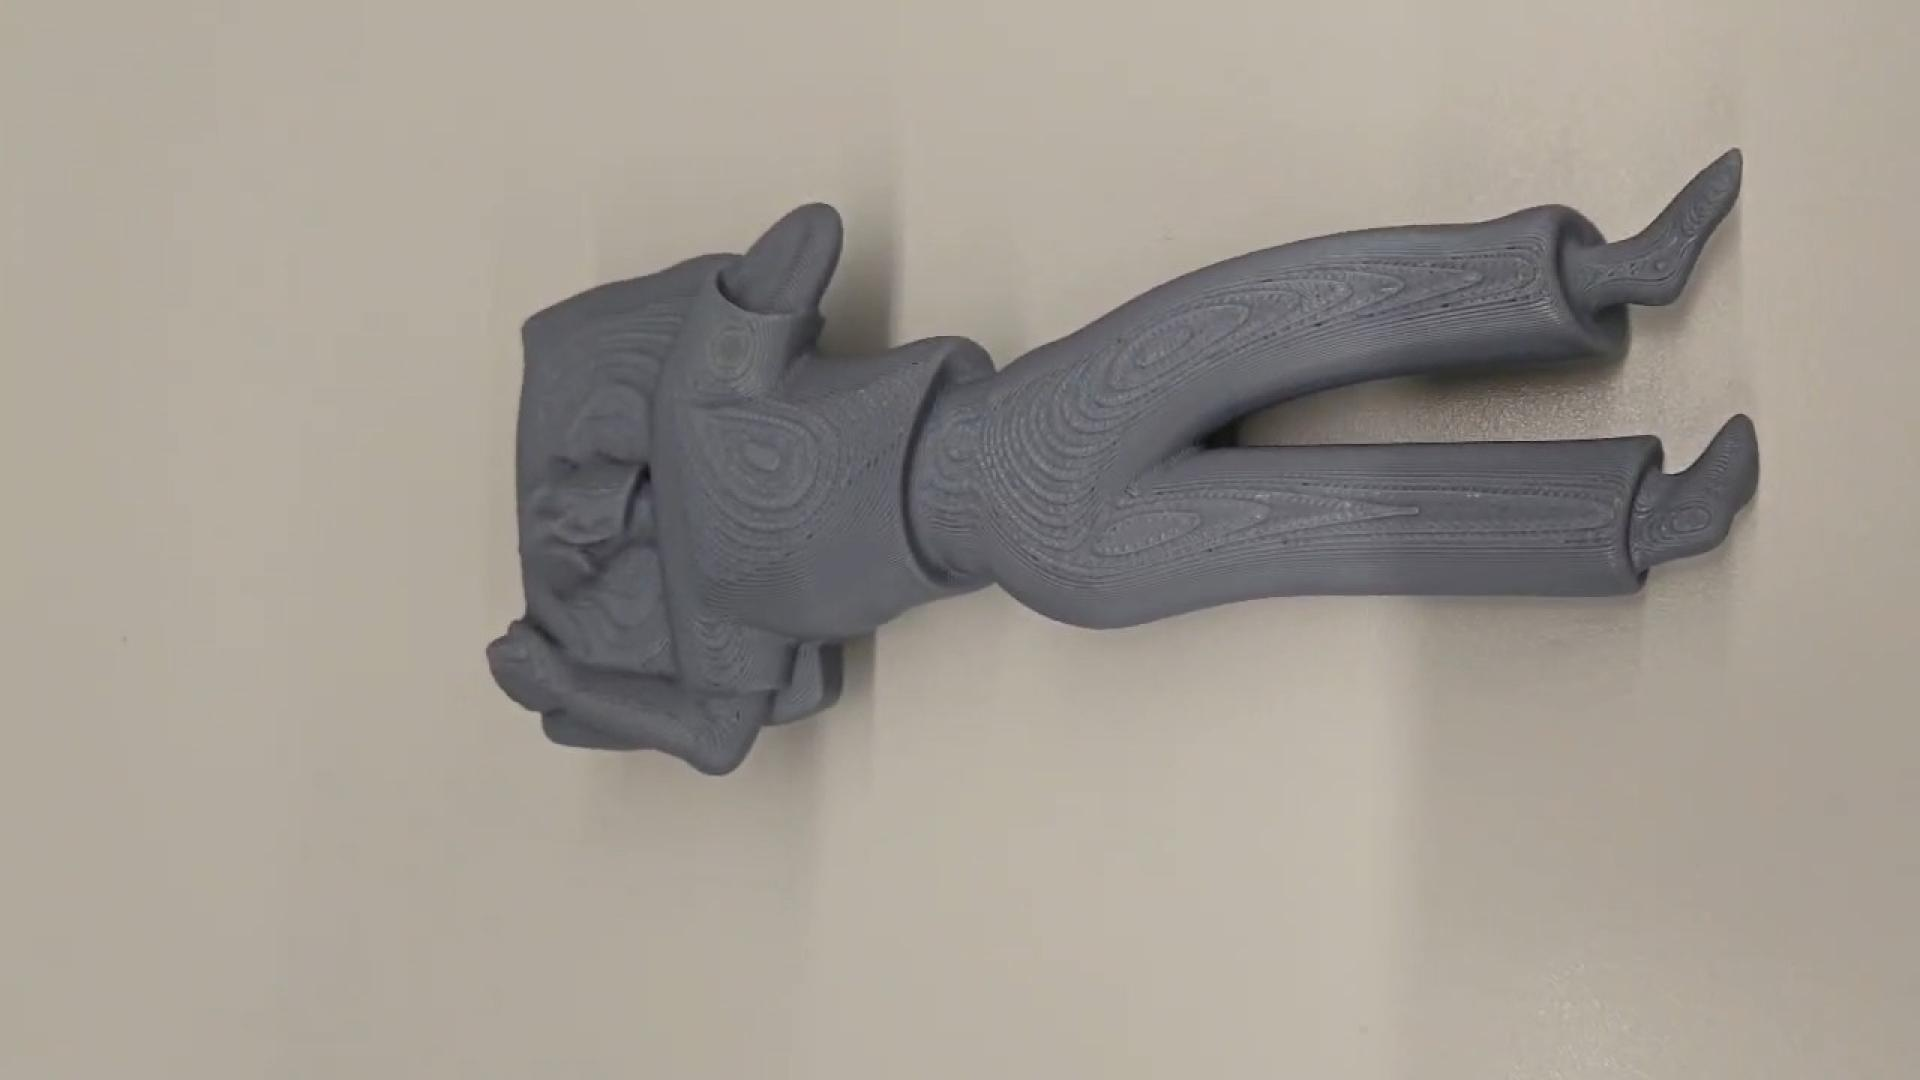Bad-style: (477, 138, 1766, 790)
